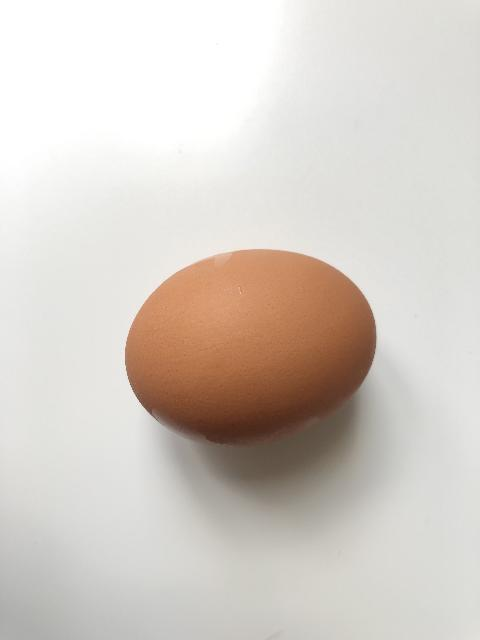Sano: (124, 247, 377, 448)
